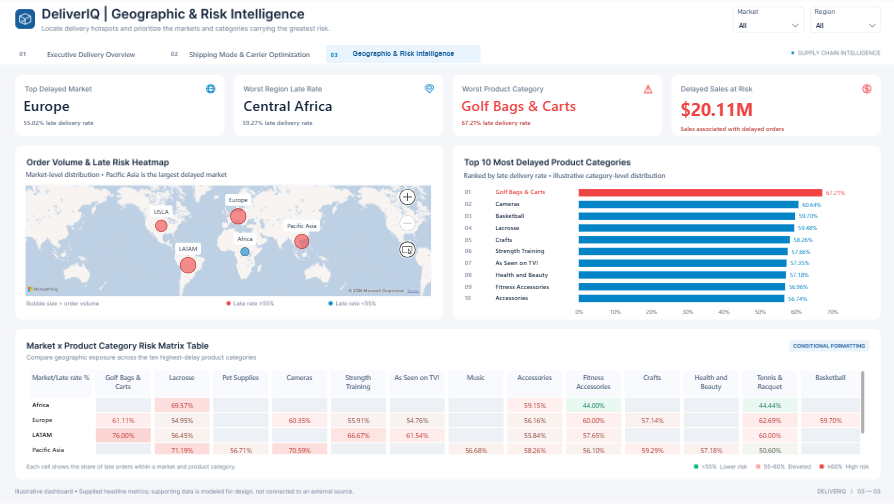

What the dashboard file says about the page in this screenshot:
{"tool":"powerbi","page":{"name":"Geographic & Risk Intelligence","canvas":[1920,1080],"ordinal":2},"visuals":[{"type":"shape","box":[48.9,95.6,852.4,46.3],"z":0},{"type":"pageNavigator","box":[28.3,101.4,1004.3,39],"z":0,"group":"g2"},{"type":"group","id":"g1","title":"Group 3","box":[28.3,101.4,1004.3,39],"z":1000},{"type":"shape","box":[34,104.1,46,31.5],"z":1000,"group":"g2"},{"type":"slicer","title":"Year","fields":{"Values":["cleaned_supply_chain_data.market"]},"box":[1566,22,151,55],"z":2000},{"type":"slicer","title":"Year","fields":{"Values":["cleaned_supply_chain_data.order_region"]},"box":[1731.4,21.6,151,55],"z":3000},{"type":"cardVisual","fields":{"Data":["All Measures.top delayed market"]},"box":[43,209,207.8,45],"z":4000},{"type":"group","id":"g2","title":"Group 1","box":[28.3,101.4,1004.3,39],"z":5000,"group":"g3"},{"type":"cardVisual","fields":{"Data":["All Measures.top delayed region"]},"box":[510,209,270,45],"z":5000},{"type":"shape","box":[361.2,104.4,35.7,33],"z":6000,"group":"g3"},{"type":"cardVisual","fields":{"Data":["All Measures.top delayed product"]},"box":[973,208.9,308.9,45.6],"z":6000},{"type":"cardVisual","fields":{"Data":["All Measures.delayed sales"]},"box":[1439,214,308.9,45.6],"z":7000},{"type":"group","id":"g3","title":"Group 2","box":[28.3,101.4,1004.3,39],"z":7500,"group":"g1"},{"type":"shape","box":[702,105.1,35,31.5],"z":8000,"group":"g1"},{"type":"cardVisual","fields":{"Data":["All Measures.top delayed market late delivery rate"]},"box":[43.3,254.4,325.6,23.3],"z":8000},{"type":"cardVisual","fields":{"Data":["All Measures.top delayed region late delivery rate"]},"box":[509,256,325.6,23.3],"z":9000},{"type":"cardVisual","fields":{"Data":["All Measures.top delayed product late delivery rate"]},"box":[974,256,325.6,23.3],"z":10000},{"type":"cardVisual","fields":{"Data":["All Measures.delayed sales icon"]},"box":[1438.9,267.7,325.6,23.3],"z":11000},{"type":"shape","box":[993.4,392.1,842.1,265.8],"z":12000},{"type":"tableEx","fields":{"Values":["All Measures.top 10 rank","cleaned_supply_chain_data.category_name","All Measures.Late Delivery Rate %"]},"box":[973.7,357.9,890.8,309.4],"z":12501,"group":"g4"},{"type":"group","id":"g4","title":"Group 4","box":[973.7,357.9,890.8,341.2],"z":13000},{"type":"clusteredBarChart","fields":{"Category":["cleaned_supply_chain_data.category_name"],"Y":["All Measures.Late Delivery Rate %"]},"box":[1213.6,376.1,619.7,323],"z":13002,"group":"g4"},{"type":"cardVisual","fields":{"Data":["All Measures.Top 0 most delyed product categories icon"]},"box":[979,361.3,550,35.5],"z":14000},{"type":"shape","box":[1808.2,357.4,55.7,300],"z":15000},{"type":"cardVisual","fields":{"Data":["All Measures.Order volume & late risk heatmap icon"]},"box":[47.3,368,550,19.3],"z":16000},{"type":"map","fields":{"Category":["cleaned_supply_chain_data.market"],"Size":["All Measures.Total Orders"],"X":["Avg(cleaned_supply_chain_data.Market_Lon)"],"Y":["Avg(cleaned_supply_chain_data.Market_Lat)"]},"box":[47.7,386.2,893.8,264.6],"z":18000},{"type":"pivotTable","fields":{"Columns":["Category_Dim.category_name"],"Rows":["cleaned_supply_chain_data.market"],"Values":["All Measures.Late Delivery Rate %"]},"box":[56.3,779.6,1807.8,207.8],"z":18001}]}

Visuals, with their boxes in screenshot pixels (x1, y1, x2, y2), scaled from the page's 1920x1080 canvas onto the 894x504 screenshot:
shape: locate(23, 45, 420, 66)
pageNavigator: locate(13, 47, 481, 66)
"Group 3" group: locate(13, 47, 481, 66)
shape: locate(16, 49, 37, 63)
"Year" slicer: locate(729, 10, 799, 36)
"Year" slicer: locate(806, 10, 876, 36)
cardVisual - All Measures.top delayed market: locate(20, 98, 117, 119)
"Group 1" group: locate(13, 47, 481, 66)
cardVisual - All Measures.top delayed region: locate(237, 98, 363, 119)
shape: locate(168, 49, 185, 64)
cardVisual - All Measures.top delayed product: locate(453, 97, 597, 119)
cardVisual - All Measures.delayed sales: locate(670, 100, 814, 121)
"Group 2" group: locate(13, 47, 481, 66)
shape: locate(327, 49, 343, 64)
cardVisual - All Measures.top delayed market late delivery rate: locate(20, 119, 172, 130)
cardVisual - All Measures.top delayed region late delivery rate: locate(237, 119, 389, 130)
cardVisual - All Measures.top delayed product late delivery rate: locate(454, 119, 605, 130)
cardVisual - All Measures.delayed sales icon: locate(670, 125, 822, 136)
shape: locate(463, 183, 855, 307)
tableEx - All Measures.top 10 rank x cleaned_supply_chain_data.category_name: locate(453, 167, 868, 311)
"Group 4" group: locate(453, 167, 868, 326)
clusteredBarChart - cleaned_supply_chain_data.category_name x All Measures.Late Delivery Rate %: locate(565, 176, 854, 326)
cardVisual - All Measures.Top 0 most delyed product categories icon: locate(456, 169, 712, 185)
shape: locate(842, 167, 868, 307)
cardVisual - All Measures.Order volume & late risk heatmap icon: locate(22, 172, 278, 181)
map - cleaned_supply_chain_data.market x All Measures.Total Orders: locate(22, 180, 438, 304)
pivotTable - Category_Dim.category_name x cleaned_supply_chain_data.market: locate(26, 364, 868, 461)
